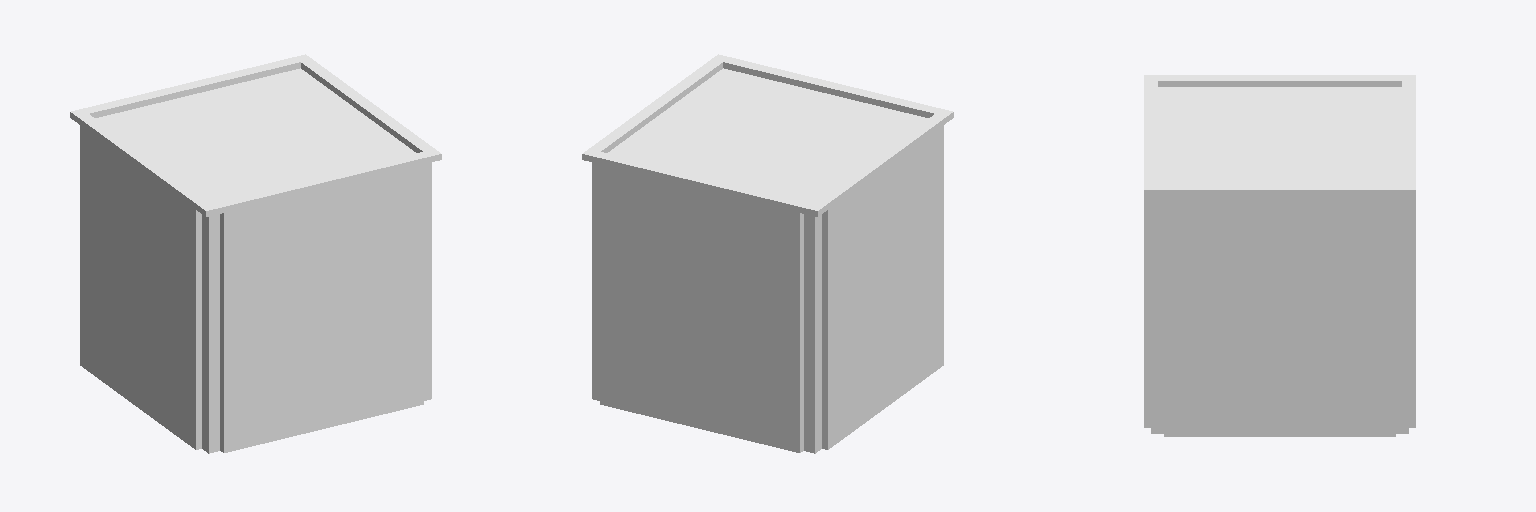
Rendered from tonk_stand.obj.
3 renders of one model, left to right at view 1: azimuth 30°, elevation 25°; view 2: azimuth 150°, elevation 25°; view 3: azimuth 270°, elevation 25°, orthographic.
Visible parts, largest first — view 1: object 1; view 2: object 1; view 3: object 1.
Boxes of the visible parts, <box> form: object 1: <box>70,54,441,453</box>; object 1: <box>582,54,953,453</box>; object 1: <box>1144,75,1415,436</box>.
Size of the model in its own units: 4 by 4 by 4.